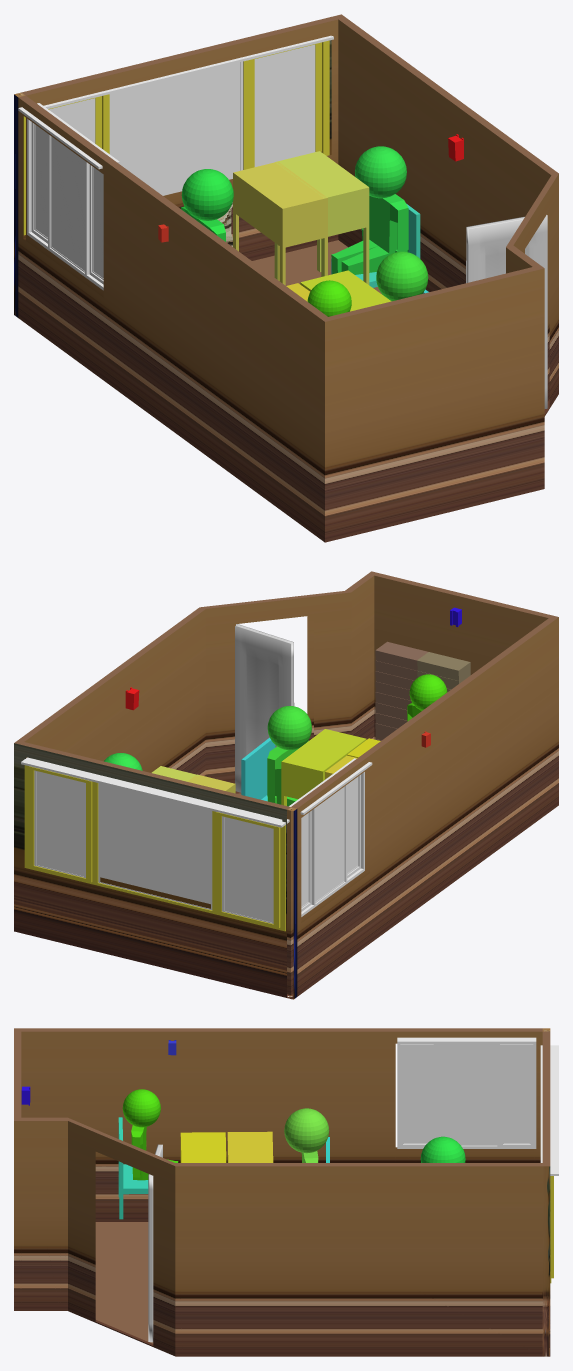
File: IMT_ESPACE_ENTREPRISE_BUREAU_522.glb
The picture shows the model from 3 angles, top to bottom: view 1: azimuth 30°, elevation 25°; view 2: azimuth 150°, elevation 25°; view 3: azimuth 270°, elevation 25°; orthographic projection. The views are drawn at different scales.
Parts seen in each view (by area): view 1: Mur6, Mur5, Window.003, Mur2, Window.002, Mur1, TABLE2, PERSONNE 4, TABLE 4, Mur3, porte, PERSONNE 5 (+6 smaller); view 2: Mur6, Window.003, Mur1, Mur2, Mur3, Mur5, Window.002, porte, Mur4, PLACART 1, Table 2, personne 2 (+3 smaller); view 3: Mur2, Mur6, Window.002, Mur3, Mur4, Plancher Bas, Window.003, personne 1, PERSONNE 3, Table 3, Table 1, Mur1 (+4 smaller).
Boxes of the visible parts, x1,y1,x2,y2 form: Mur6: (14, 92, 331, 542); Mur5: (325, 267, 537, 542); Window.003: (23, 35, 333, 235); Mur2: (338, 17, 558, 291); Window.002: (18, 103, 119, 290); Mur1: (22, 14, 345, 260); TABLE2: (233, 161, 327, 285); PERSONNE 4: (331, 146, 408, 274); TABLE 4: (274, 151, 369, 284); Mur3: (506, 173, 558, 416); porte: (466, 215, 547, 408); PERSONNE 5: (181, 169, 233, 241); Mur6: (287, 615, 558, 999); Window.003: (21, 757, 289, 931); Mur1: (14, 740, 290, 997); Mur2: (18, 607, 205, 776); Mur3: (200, 591, 351, 793); Mur5: (374, 573, 552, 739); Window.002: (289, 758, 372, 916); porte: (235, 624, 294, 792); Mur4: (345, 571, 377, 739); PLACART 1: (375, 641, 428, 740); Table 2: (281, 729, 366, 805); personne 2: (267, 706, 311, 806); Mur2: (175, 1163, 550, 1356); Mur6: (14, 1028, 550, 1221); Window.002: (397, 1037, 536, 1148); Mur3: (68, 1118, 175, 1355); Mur4: (14, 1117, 67, 1310); Plancher Bas: (95, 1222, 153, 1343); Window.003: (540, 1045, 558, 1283); personne 1: (284, 1108, 329, 1162); PERSONNE 3: (122, 1089, 178, 1180); Table 3: (227, 1131, 273, 1162); Table 1: (180, 1132, 226, 1162); Mur1: (542, 1031, 550, 1166).
Bounding box in the file's own units: 4.44 × 2.8 × 7.27.
Materials: 34 (2 with a texture image).
